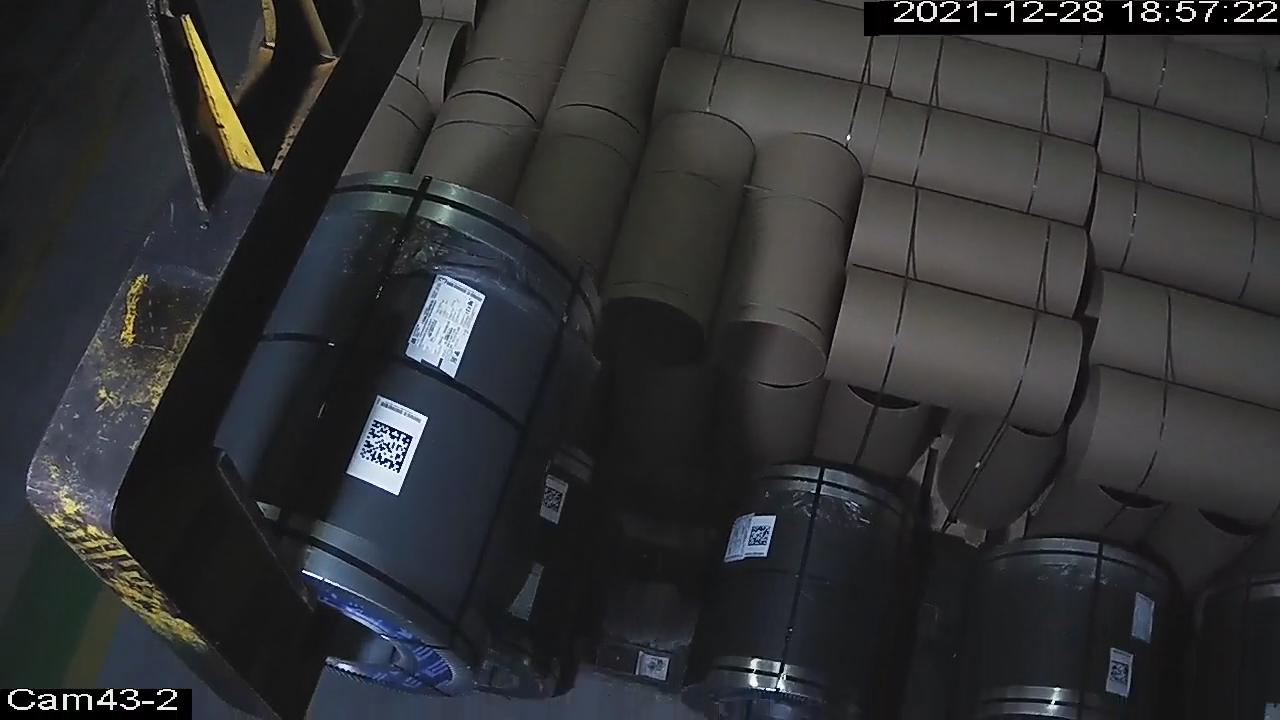data matrix: (355, 418, 415, 477), (538, 483, 567, 516), (1108, 658, 1132, 688), (748, 525, 773, 549)
